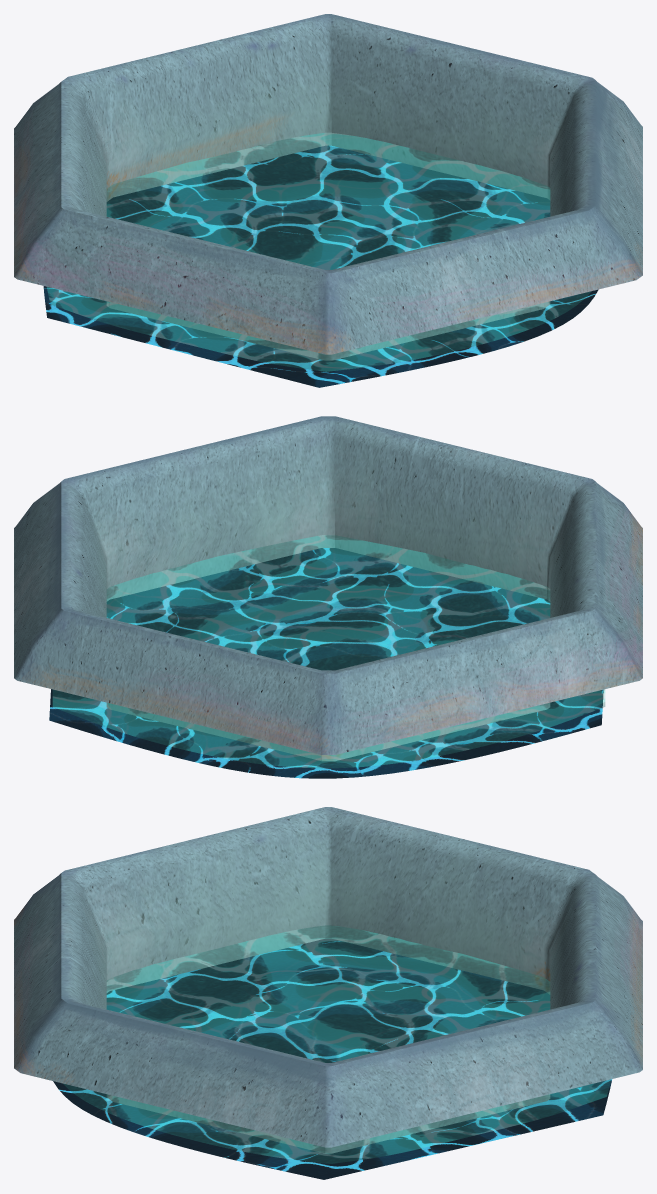
File: well.fbx
The picture shows the model from 3 angles, top to bottom: view 1: azimuth 30°, elevation 25°; view 2: azimuth 150°, elevation 25°; view 3: azimuth 270°, elevation 25°; orthographic projection.
Visible parts, largest first — view 1: well, water, waterdown; view 2: well, water, waterdown; view 3: well, water, waterdown.
Boxes of the visible parts, <box> form: well: <box>14,14,642,360</box>; water: <box>47,133,591,371</box>; waterdown: <box>43,145,598,387</box>; well: <box>14,416,642,761</box>; water: <box>53,535,604,767</box>; waterdown: <box>49,548,603,778</box>; well: <box>14,807,642,1153</box>; water: <box>64,925,610,1163</box>; waterdown: <box>53,938,612,1179</box>.
Size of the model in its own units: 2 by 0.3483 by 1.74.
3 materials, 3 textured.
